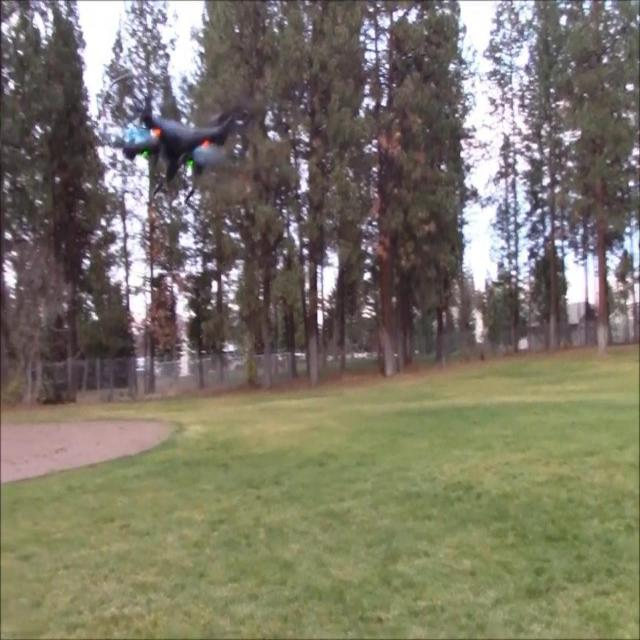UAV: (123, 96, 250, 204)
